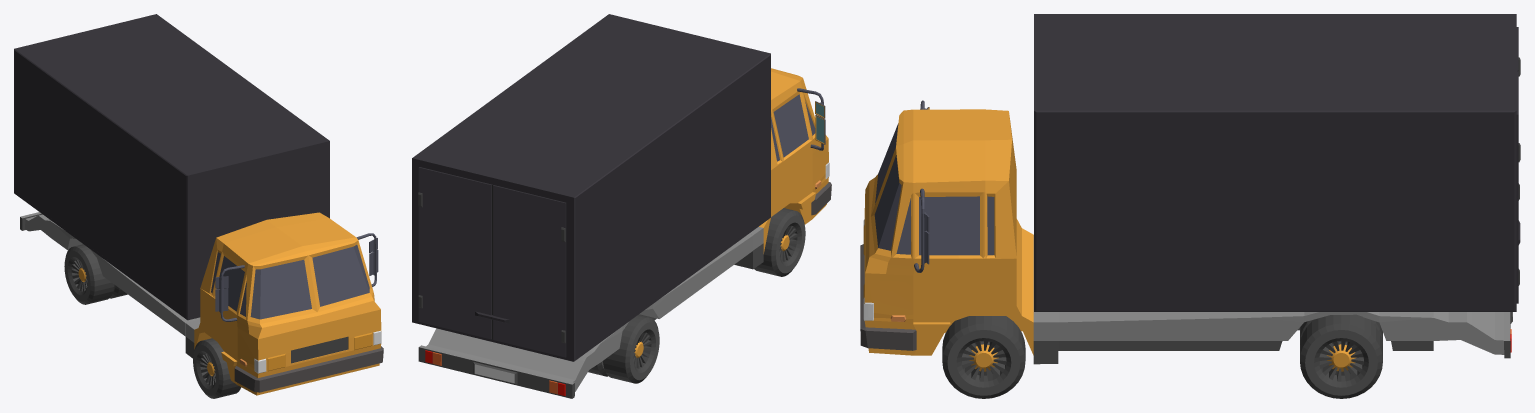
File: Грузовик.fbx
3 renders of one model, left to right at view 1: azimuth 30°, elevation 25°; view 2: azimuth 150°, elevation 25°; view 3: azimuth 270°, elevation 25°, orthographic. The views are drawn at different scales.
Parts seen in each view (by area): view 1: Cube.002, RR1, FR; view 2: Cube.002, RR1, FR; view 3: Cube.002, RL1, FL.
Part boxes in pixels (left/top/right/bottom): Cube.002: left=14, top=14, right=383, bottom=395; RR1: left=64, top=244, right=114, bottom=304; FR: left=193, top=338, right=240, bottom=398; Cube.002: left=412, top=14, right=831, bottom=398; RR1: left=602, top=315, right=659, bottom=383; FR: left=754, top=208, right=805, bottom=276; Cube.002: left=860, top=14, right=1520, bottom=364; RL1: left=1300, top=314, right=1382, bottom=398; FL: left=942, top=316, right=1025, bottom=398.
Size of the model in its own units: 727 by 891 by 1836.
